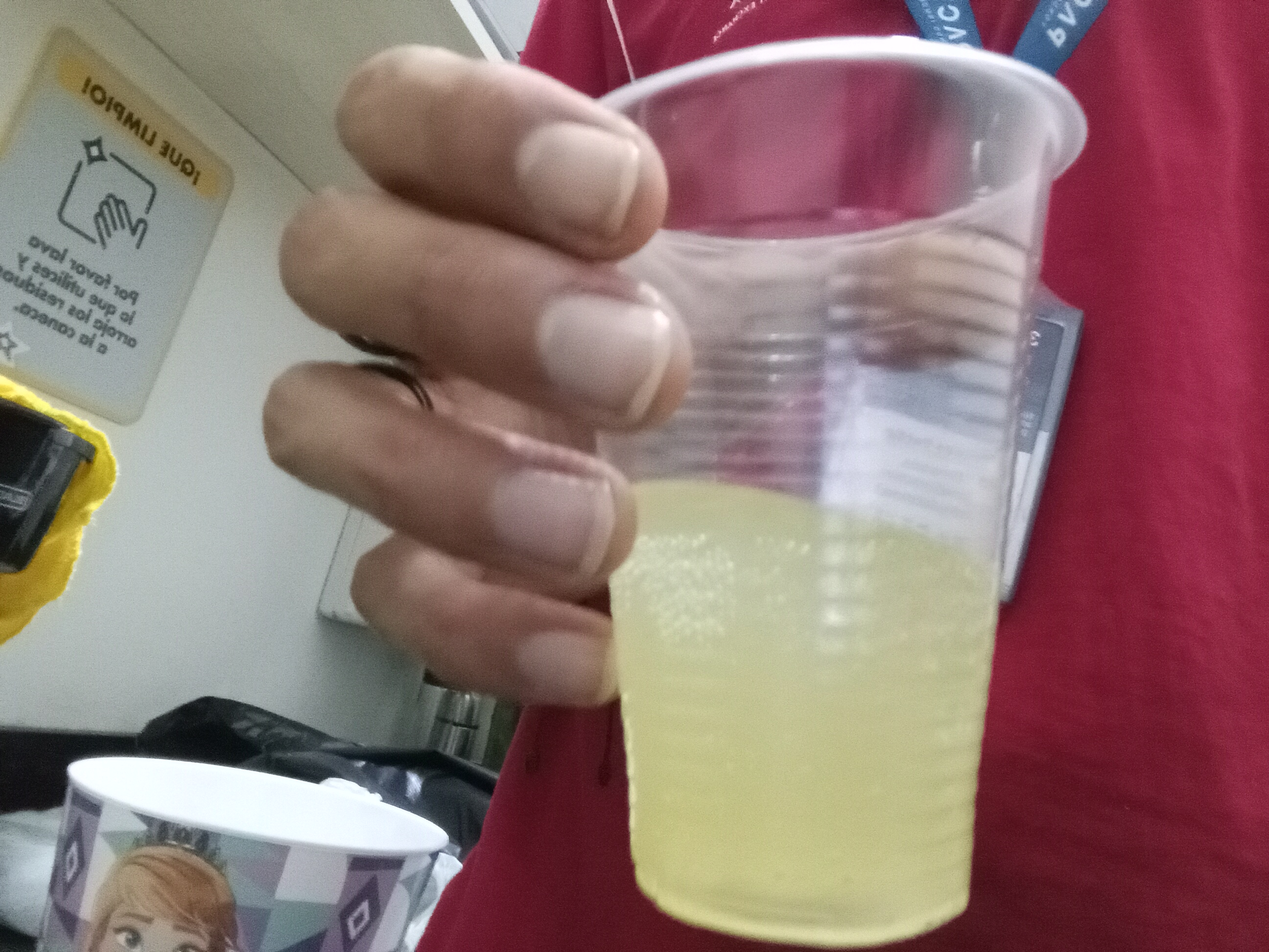Plastico: (597, 37, 1087, 947)
